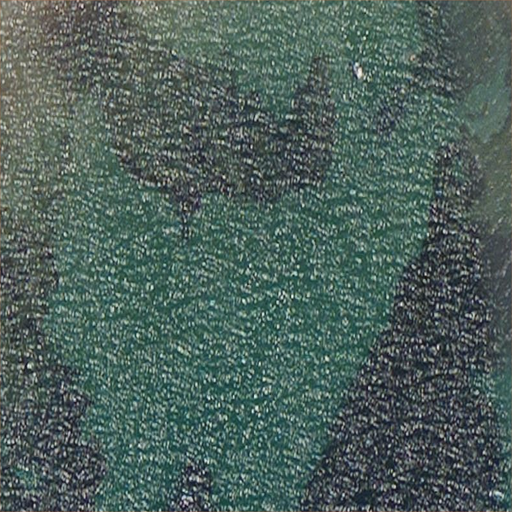ship: (352, 61, 366, 82)
